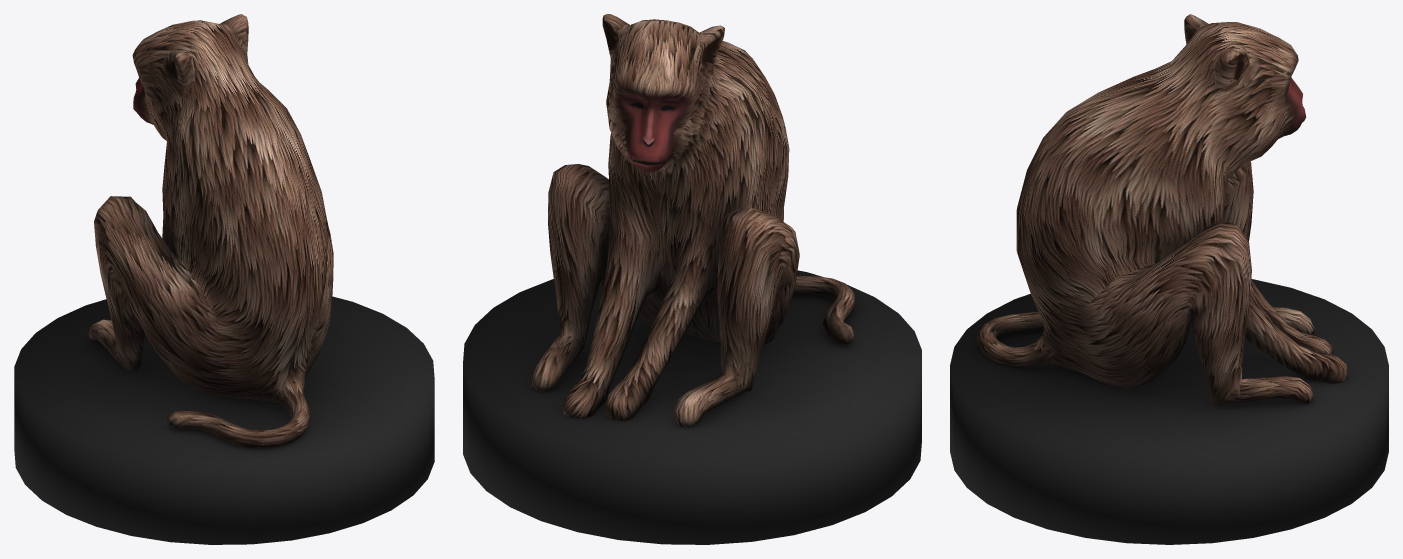
File: monkey.glb
3 views of the same model, side by side, from view 1: azimuth 30°, elevation 25°; view 2: azimuth 150°, elevation 25°; view 3: azimuth 270°, elevation 25° (orthographic). The views are drawn at different scales.
Visible parts, largest first — view 1: Cylinder, monkey2; view 2: Cylinder, monkey2; view 3: monkey2, Cylinder.
Part boxes in pixels (bbox=[...]): Cylinder: bbox=[14, 296, 434, 544]; monkey2: bbox=[89, 14, 333, 448]; Cylinder: bbox=[463, 270, 921, 544]; monkey2: bbox=[531, 14, 855, 427]; monkey2: bbox=[977, 14, 1347, 405]; Cylinder: bbox=[950, 279, 1388, 544].
Size of the model in its own units: 0.2372 by 0.2544 by 0.2372.
2 materials, 2 textured.
